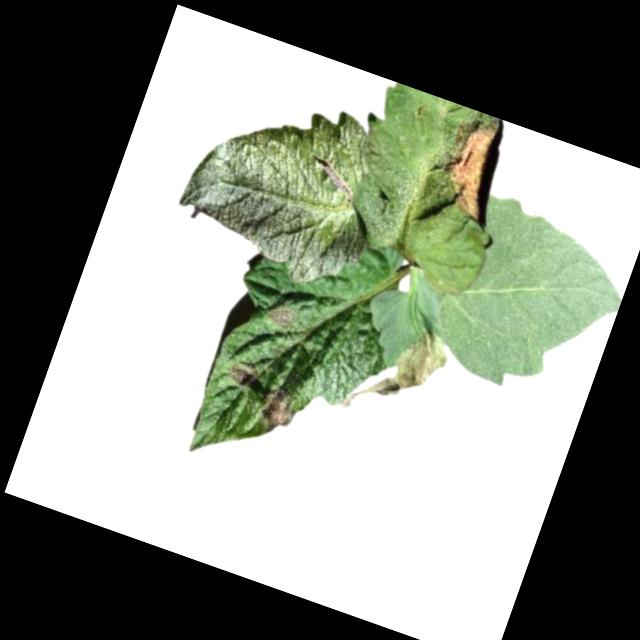Late_blight: (430, 113, 515, 228), (364, 319, 454, 419), (257, 387, 297, 437), (266, 303, 302, 333), (226, 363, 257, 390)
healthy: (166, 69, 404, 299), (425, 188, 639, 413)
